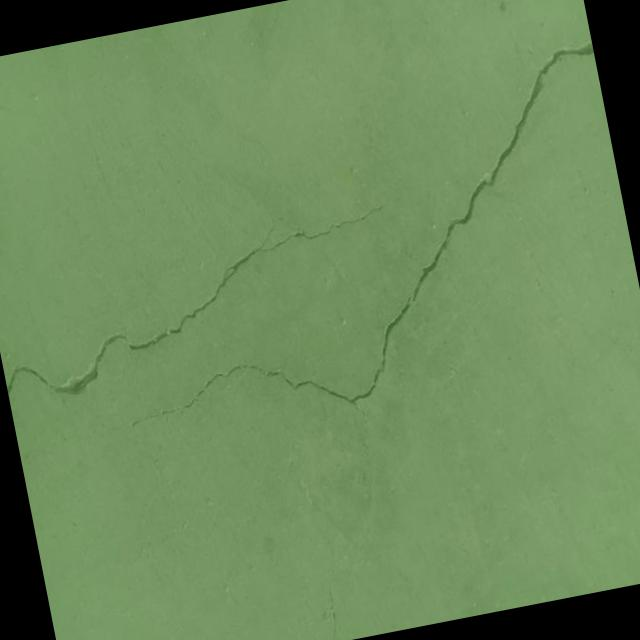crack: (75, 41, 640, 522), (0, 203, 406, 408), (318, 569, 347, 640), (278, 215, 296, 232)
